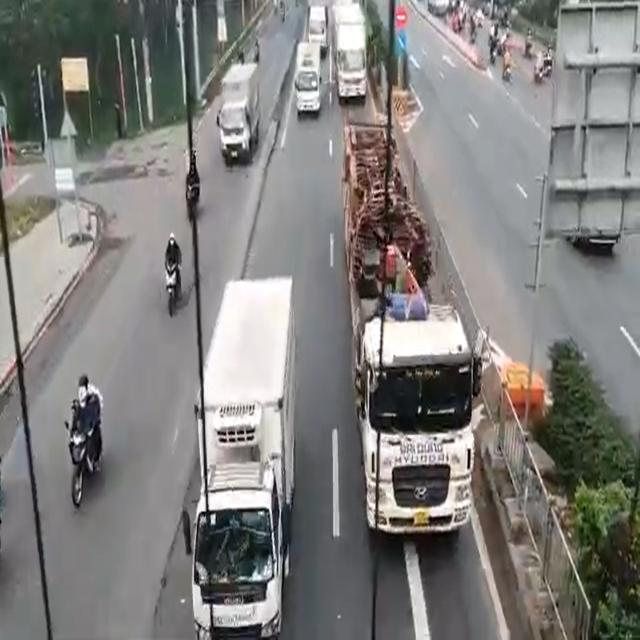motor: (66, 382, 106, 495), (166, 240, 179, 311)
truck: (340, 129, 479, 536), (198, 287, 287, 637), (334, 5, 366, 103), (220, 68, 256, 154), (296, 42, 321, 111)
